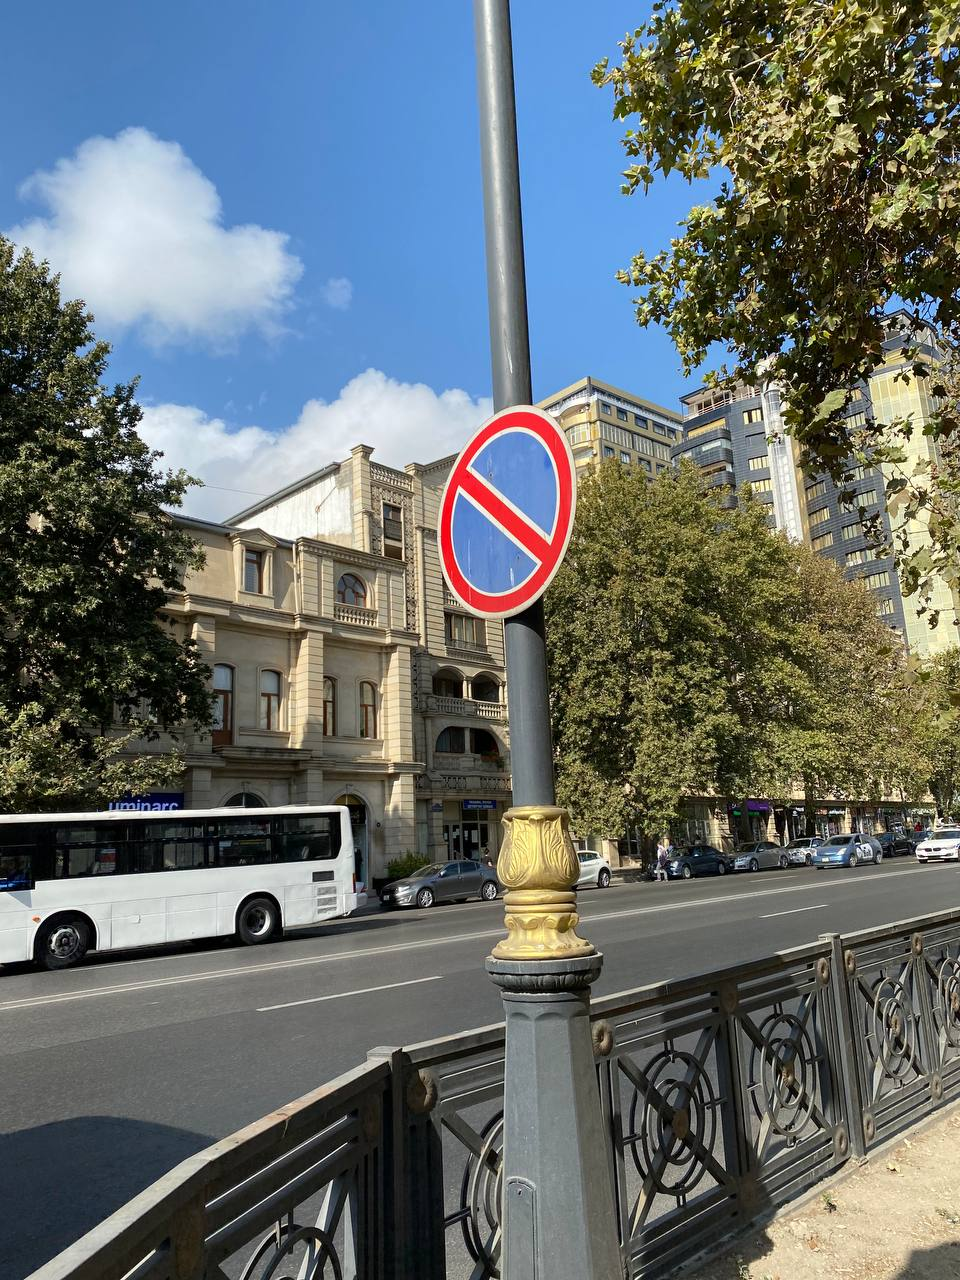No Waiting: (438, 405, 576, 620)
